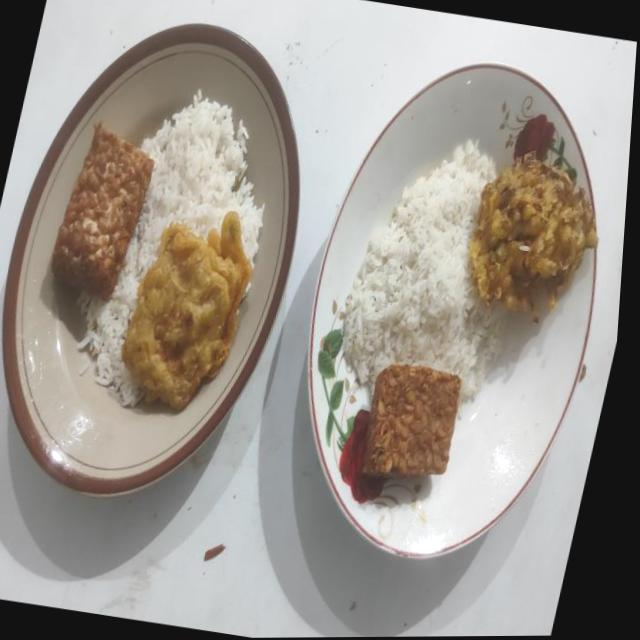nasi_putih: (80, 90, 264, 406), (342, 140, 502, 399)
tempe_goreng: (52, 122, 154, 300), (363, 364, 461, 476)
